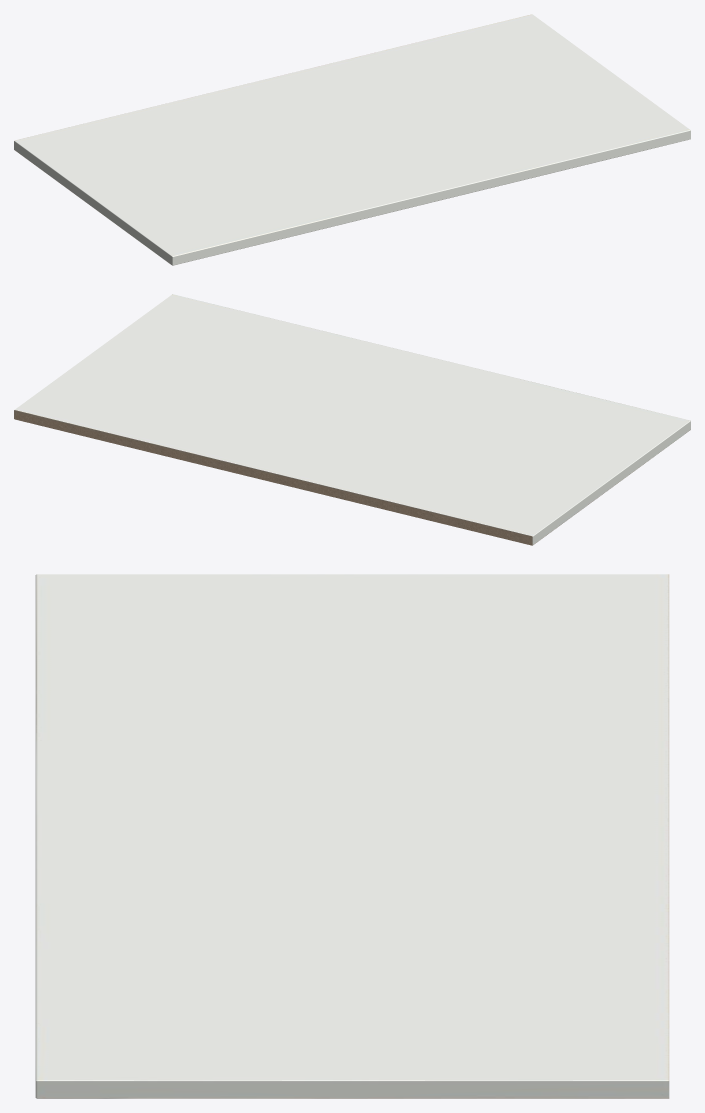
The model's file is moeckleryd_countertop_white_laminate.glb.
3 renders of one model, top to bottom at view 1: azimuth 30°, elevation 25°; view 2: azimuth 150°, elevation 25°; view 3: azimuth 270°, elevation 25°, orthographic. The views are drawn at different scales.
Visible parts, largest first — view 1: ASY_ART_50591383_S01_NV01; view 2: ASY_ART_50591383_S01_NV01; view 3: ASY_ART_50591383_S01_NV01.
Part boxes in pixels (box(x1,y1,x2,y2)): ASY_ART_50591383_S01_NV01: box(14, 14, 690, 265); ASY_ART_50591383_S01_NV01: box(14, 294, 690, 545); ASY_ART_50591383_S01_NV01: box(35, 574, 669, 1098).
Size of the model in its own units: 1.23 by 0.0213 by 0.65.
Materials: 1 (1 with a texture image).
